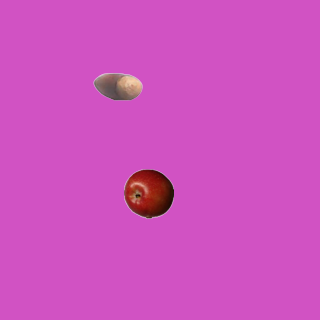Apple Braeburn: (123, 168, 173, 218)
Hazelnut: (92, 61, 142, 111)
